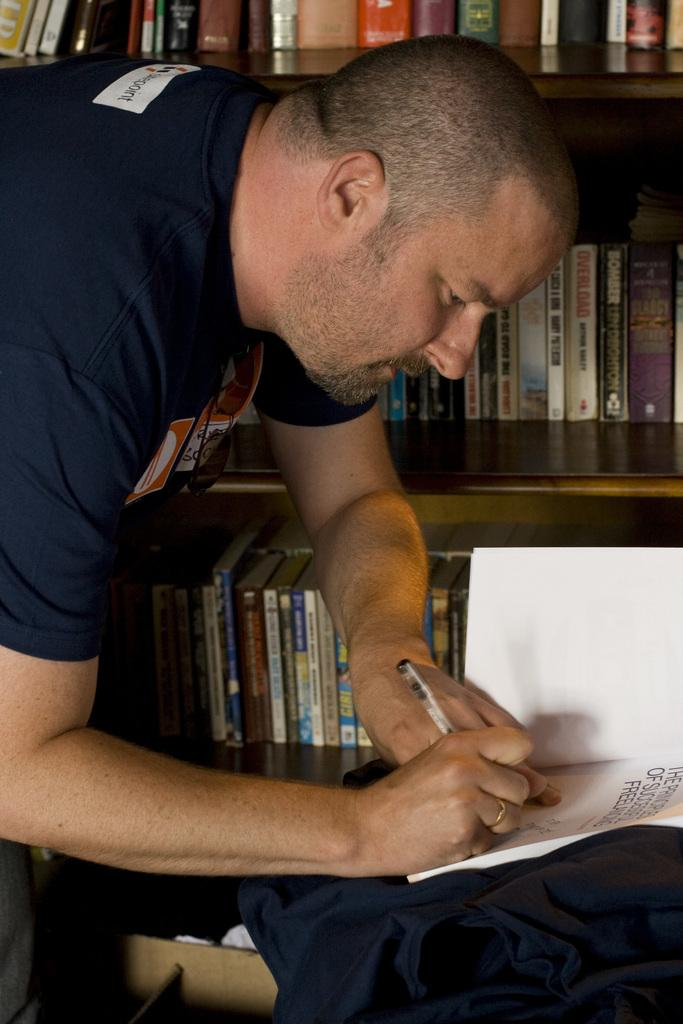Book: (110, 535, 380, 758), (380, 230, 682, 421), (0, 1, 682, 63), (418, 548, 470, 682)
